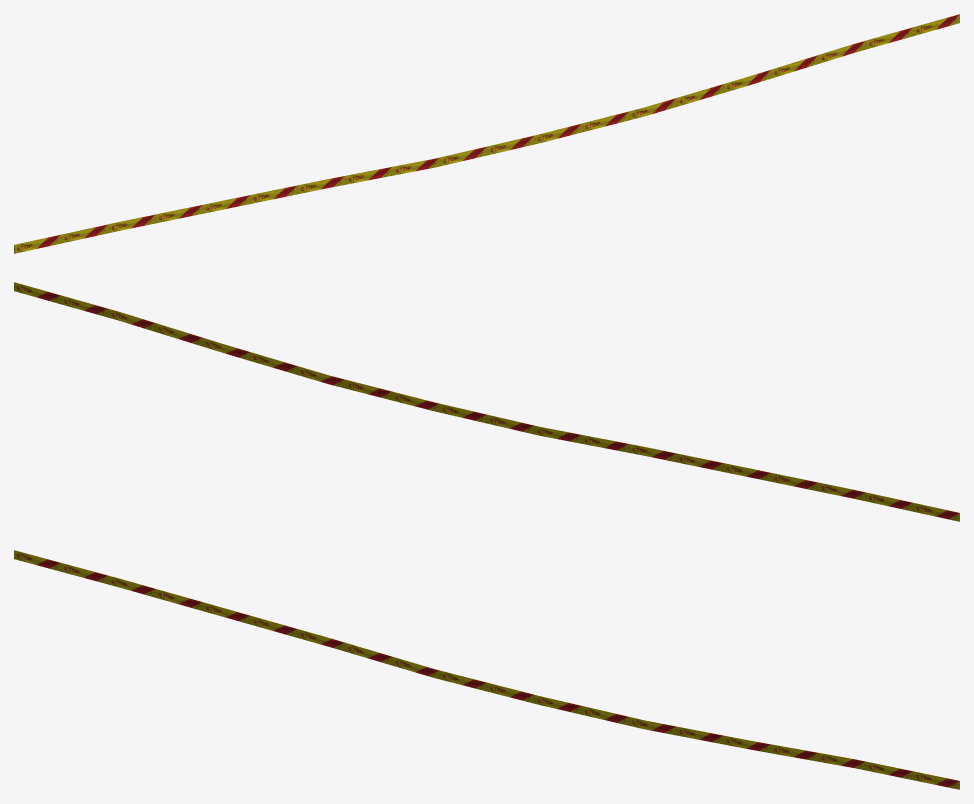
File: stop_line.FBX
3 renders of one model, top to bottom at view 1: azimuth 30°, elevation 25°; view 2: azimuth 150°, elevation 25°; view 3: azimuth 330°, elevation 25°, orthographic.
Parts seen in each view (by area): view 1: Box001; view 2: Box001; view 3: Box001.
Part boxes in pixels (x1,y1,x2,y2): Box001: (14, 14, 959, 253); Box001: (14, 282, 959, 521); Box001: (14, 550, 959, 789).
Size of the model in its own units: 121 by 3.23 by 0.0515.
